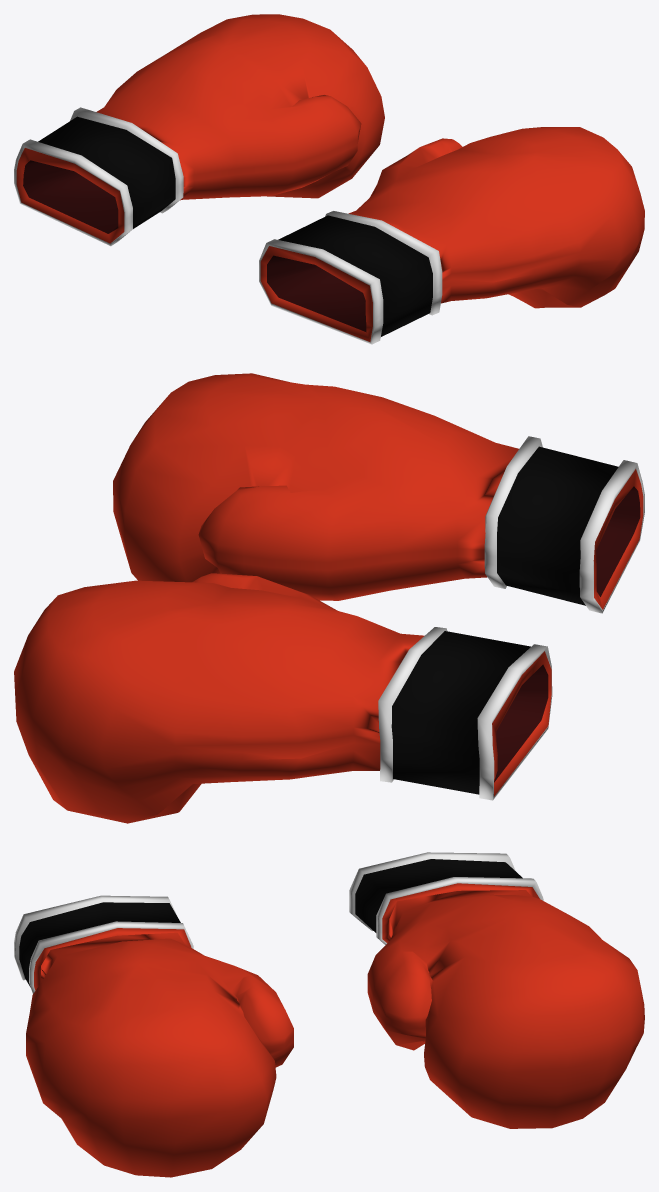
File: 2boxing-gloves.fbx
3 renders of one model, top to bottom at view 1: azimuth 30°, elevation 25°; view 2: azimuth 150°, elevation 25°; view 3: azimuth 270°, elevation 25°, orthographic. The views are drawn at different scales.
Visible parts, largest first — view 1: Cube.001, Cube; view 2: Cube, Cube.001; view 3: Cube.001, Cube.
Boxes of the visible parts, x1=… form: Cube.001: x1=259, y1=127, x2=644, y2=344; Cube: x1=14, y1=14, x2=384, y2=246; Cube: x1=14, y1=573, x2=552, y2=823; Cube.001: x1=113, y1=373, x2=644, y2=613; Cube.001: x1=14, y1=895, x2=293, y2=1177; Cube: x1=349, y1=852, x2=644, y2=1128.
Bounding box in the file's own units: 688 × 237 × 813.
